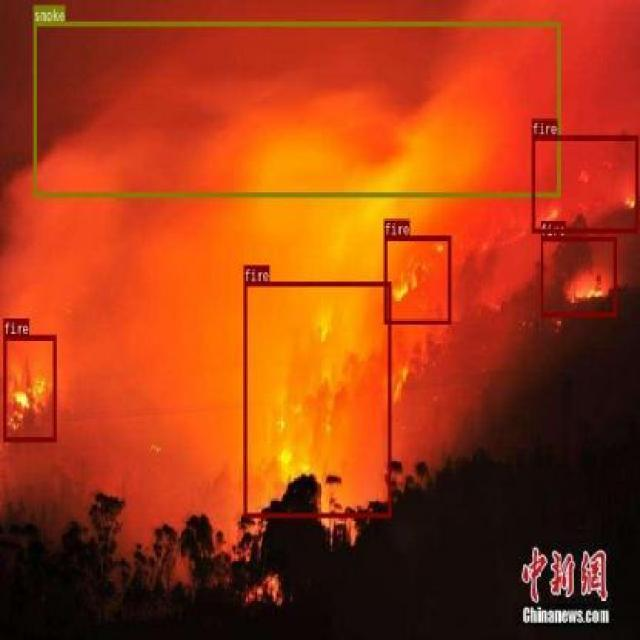Fire: (243, 281, 391, 517), (530, 134, 638, 232), (539, 236, 616, 316), (383, 235, 451, 322), (2, 334, 56, 440)
Smoke: (33, 22, 559, 195)
